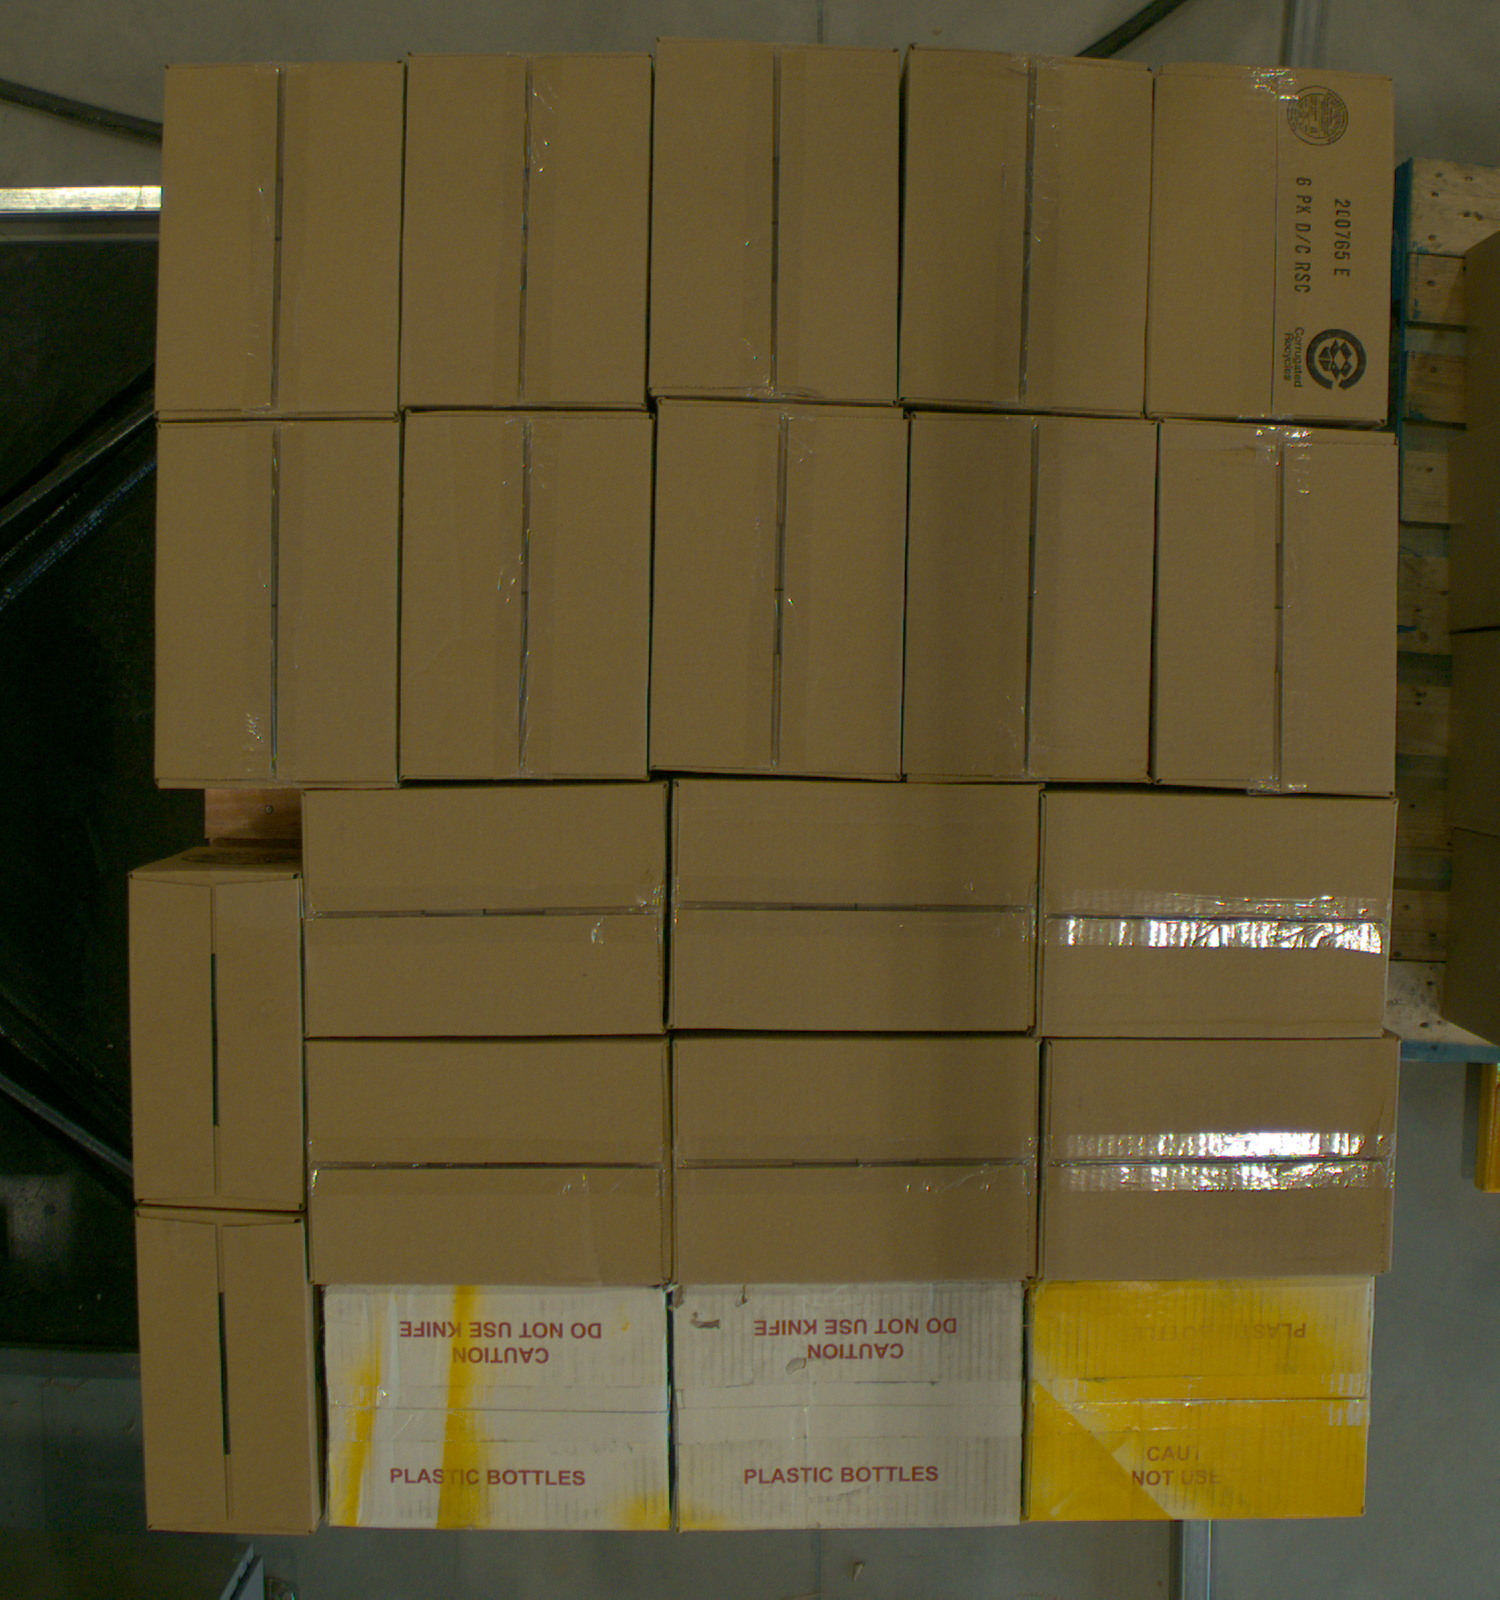box top: (651, 399, 909, 781), (899, 47, 1153, 419), (400, 412, 654, 781), (904, 414, 1157, 781), (671, 780, 1039, 1030), (1155, 419, 1398, 796), (305, 785, 667, 1038), (650, 38, 899, 403), (154, 59, 405, 419), (400, 52, 653, 407), (1148, 63, 1394, 426), (158, 419, 400, 787), (674, 1040, 1040, 1283), (1036, 794, 1397, 1038), (307, 1043, 671, 1283), (672, 1281, 1023, 1530), (1040, 1039, 1398, 1279), (1028, 1276, 1375, 1520), (326, 1286, 671, 1530), (135, 1208, 314, 1534), (131, 875, 305, 1210)
